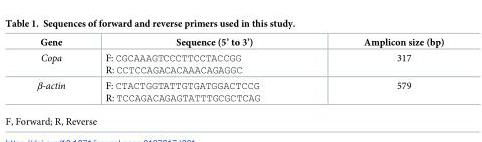table: (36, 37, 443, 103)
table column: (84, 37, 311, 103), (311, 37, 443, 103), (36, 37, 84, 103)
table column header: (36, 37, 443, 49)
table row: (36, 49, 443, 77), (36, 77, 443, 103), (36, 37, 443, 49)
